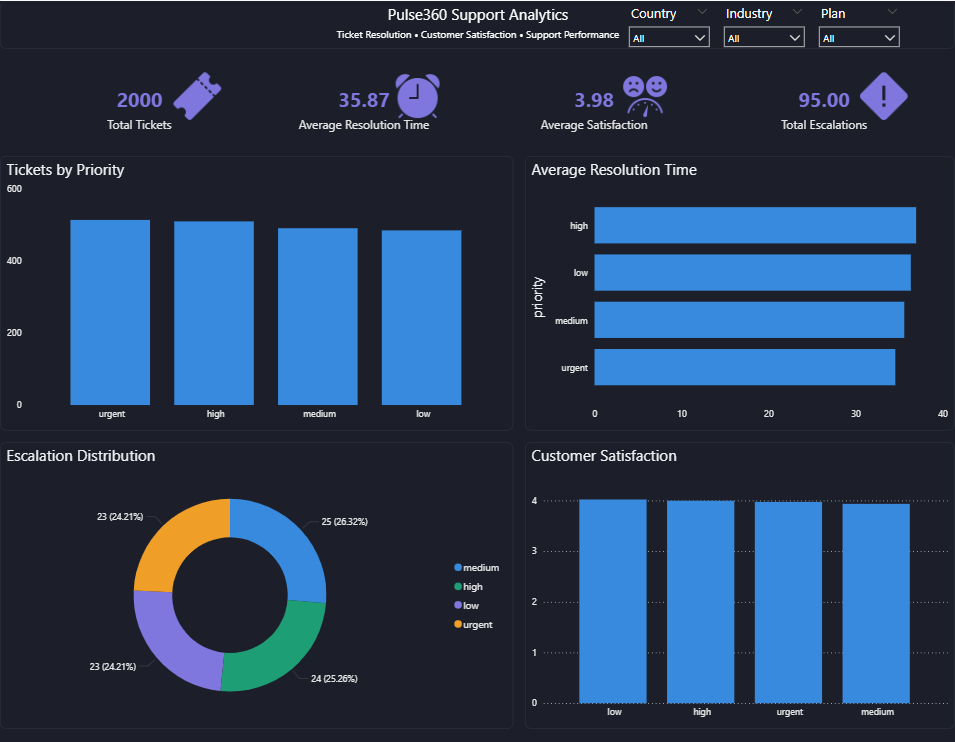

This screenshot's page, from the dashboard's own definition file:
{"tool":"powerbi","page":{"name":"Support Analytics","canvas":[1280,1000],"ordinal":3},"visuals":[{"type":"card","fields":{"Values":["KPI.Total Tickets"]},"box":[64,96,247.1,96],"z":0},{"type":"shape","title":"Pulse360 Support Analytics","box":[0,0,1280,64],"z":1000},{"type":"card","fields":{"Values":["KPI.Average Resolution Time"]},"box":[361.6,96,252.7,96],"z":2000},{"type":"card","fields":{"Values":["KPI.Average Satisfaction"]},"box":[670.5,96,252.7,96],"z":3000},{"type":"clusteredColumnChart","title":"Tickets by Priority","fields":{"Category":["vw_support_summary.priority"],"Y":["Sum(vw_support_summary.Tickets)"]},"box":[0,208,688,368],"z":4000},{"type":"card","fields":{"Values":["KPI.Total Escalations"]},"box":[979.3,96,252.7,96],"z":5000},{"type":"donutChart","title":"Escalation Distribution","fields":{"Category":["vw_support_summary.priority"],"Y":["KPI.Total Escalations"]},"box":[0,592,688,384],"z":6000},{"type":"clusteredBarChart","title":"Average Resolution Time","fields":{"Category":["vw_support_summary.priority"],"Y":["Avg(vw_support_summary.Avg_Resolution)"]},"box":[704,208,576,368],"z":7000},{"type":"clusteredColumnChart","title":"Customer Satisfaction","fields":{"Category":["vw_support_summary.priority"],"Y":["KPI.Average Satisfaction"]},"box":[704,592,576,384],"z":8000},{"type":"slicer","fields":{"Values":["vw_customer360.country"]},"box":[832,0,128,64],"z":9000},{"type":"slicer","fields":{"Values":["vw_customer360.industry"]},"box":[960,0,128,64],"z":10000},{"type":"slicer","fields":{"Values":["vw_customer360.plan_tier"]},"box":[1088,0,128,64],"z":11000},{"type":"image","box":[224,96,80,64],"z":11001},{"type":"image","box":[528,96,64,64],"z":11002},{"type":"image","box":[832,96,64,64],"z":11003},{"type":"image","box":[1152,96,64,64],"z":11004}]}

Visuals, with their boxes in screenshot pixels (x1, y1, x2, y2), scaled from the page's 1280x1000 canvas onto the 955x742 screenshot:
card - KPI.Total Tickets: 48:71:232:142
"Pulse360 Support Analytics" shape: 0:0:954:47
card - KPI.Average Resolution Time: 270:71:458:142
card - KPI.Average Satisfaction: 500:71:689:142
"Tickets by Priority" clusteredColumnChart: 0:154:513:427
card - KPI.Total Escalations: 731:71:919:142
"Escalation Distribution" donutChart: 0:439:513:724
"Average Resolution Time" clusteredBarChart: 525:154:954:427
"Customer Satisfaction" clusteredColumnChart: 525:439:954:724
slicer - vw_customer360.country: 621:0:716:47
slicer - vw_customer360.industry: 716:0:812:47
slicer - vw_customer360.plan_tier: 812:0:907:47
image: 167:71:227:119
image: 394:71:442:119
image: 621:71:668:119
image: 860:71:907:119
